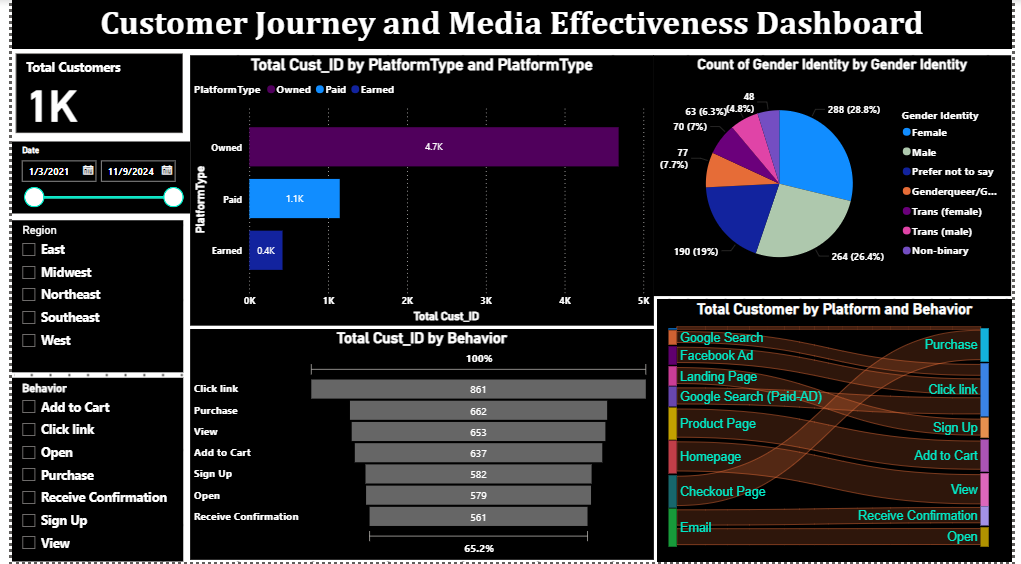

What the dashboard file says about the page in this screenshot:
{"tool":"powerbi","page":{"name":"Customer Analysis","canvas":[1280,720],"ordinal":0},"visuals":[{"type":"cardVisual","fields":{"Data":["Count(RO Online Prescription Eyewear.ID_Number)"]},"box":[0,64,224,112],"z":0},{"type":"slicer","fields":{"Values":["Final_Customer_Journey_Dataset.Behavior"]},"box":[0,484.9,219.1,235.1],"z":1000},{"type":"pieChart","fields":{"Category":["RO Online Prescription Eyewear.Gender Identity"],"Y":["CountNonNull(RO Online Prescription Eyewear.Gender Identity)"]},"box":[821.8,71.3,458.2,308.4],"z":2000},{"type":"funnel","title":"Total Cust_ID by Behavior","fields":{"Category":["Final_Customer_Journey_Dataset.Behavior"],"Y":["Count(Final_Customer_Journey_Dataset.Cust_ID)"]},"box":[228.4,421.8,593.5,295.3],"z":3000},{"type":"sankey02300D1BE6F5427989F3DE31CCA9E0F32020","title":"Total Customer by Platform and Behavior","fields":{"Source":["Final_Customer_Journey_Dataset.Platform"],"Weight":["CountNonNull(Final_Customer_Journey_Dataset.Cust_ID)"],"Destination":["Final_Customer_Journey_Dataset.Behavior"]},"box":[826.2,384,453.8,336],"z":4000},{"type":"barChart","title":"Total Cust_ID by PlatformType and PlatformType","fields":{"Category":["Final_Customer_Journey_Dataset.PlatformType"],"Y":["CountNonNull(Final_Customer_Journey_Dataset.Cust_ID)"],"Series":["Final_Customer_Journey_Dataset.PlatformType"]},"box":[228.4,71.3,593.5,346.2],"z":5000},{"type":"textbox","box":[0,0,1280,64],"z":6000},{"type":"slicer","fields":{"Values":["RO Online Prescription Eyewear.Region"]},"box":[0,284.3,219.1,194.5],"z":7000},{"type":"slicer","fields":{"Values":["Final_Customer_Journey_Dataset.Date"]},"box":[0,183.4,227.7,91.1],"z":8000}]}

Visuals, with their boxes in screenshot pixels (x1, y1, x2, y2), scaled from the page's 1280x720 canvas onto the 1021x564 screenshot:
cardVisual - Count(RO Online Prescription Eyewear.ID_Number): bbox=[0, 50, 179, 138]
slicer - Final_Customer_Journey_Dataset.Behavior: bbox=[0, 380, 175, 563]
pieChart - RO Online Prescription Eyewear.Gender Identity x CountNonNull(RO Online Prescription Eyewear.Gender Identity): bbox=[656, 56, 1020, 297]
"Total Cust_ID by Behavior" funnel: bbox=[182, 330, 656, 562]
"Total Customer by Platform and Behavior" sankey02300D1BE6F5427989F3DE31CCA9E0F32020: bbox=[659, 301, 1020, 563]
"Total Cust_ID by PlatformType and PlatformType" barChart: bbox=[182, 56, 656, 327]
textbox: bbox=[0, 0, 1020, 50]
slicer - RO Online Prescription Eyewear.Region: bbox=[0, 223, 175, 375]
slicer - Final_Customer_Journey_Dataset.Date: bbox=[0, 144, 182, 215]
